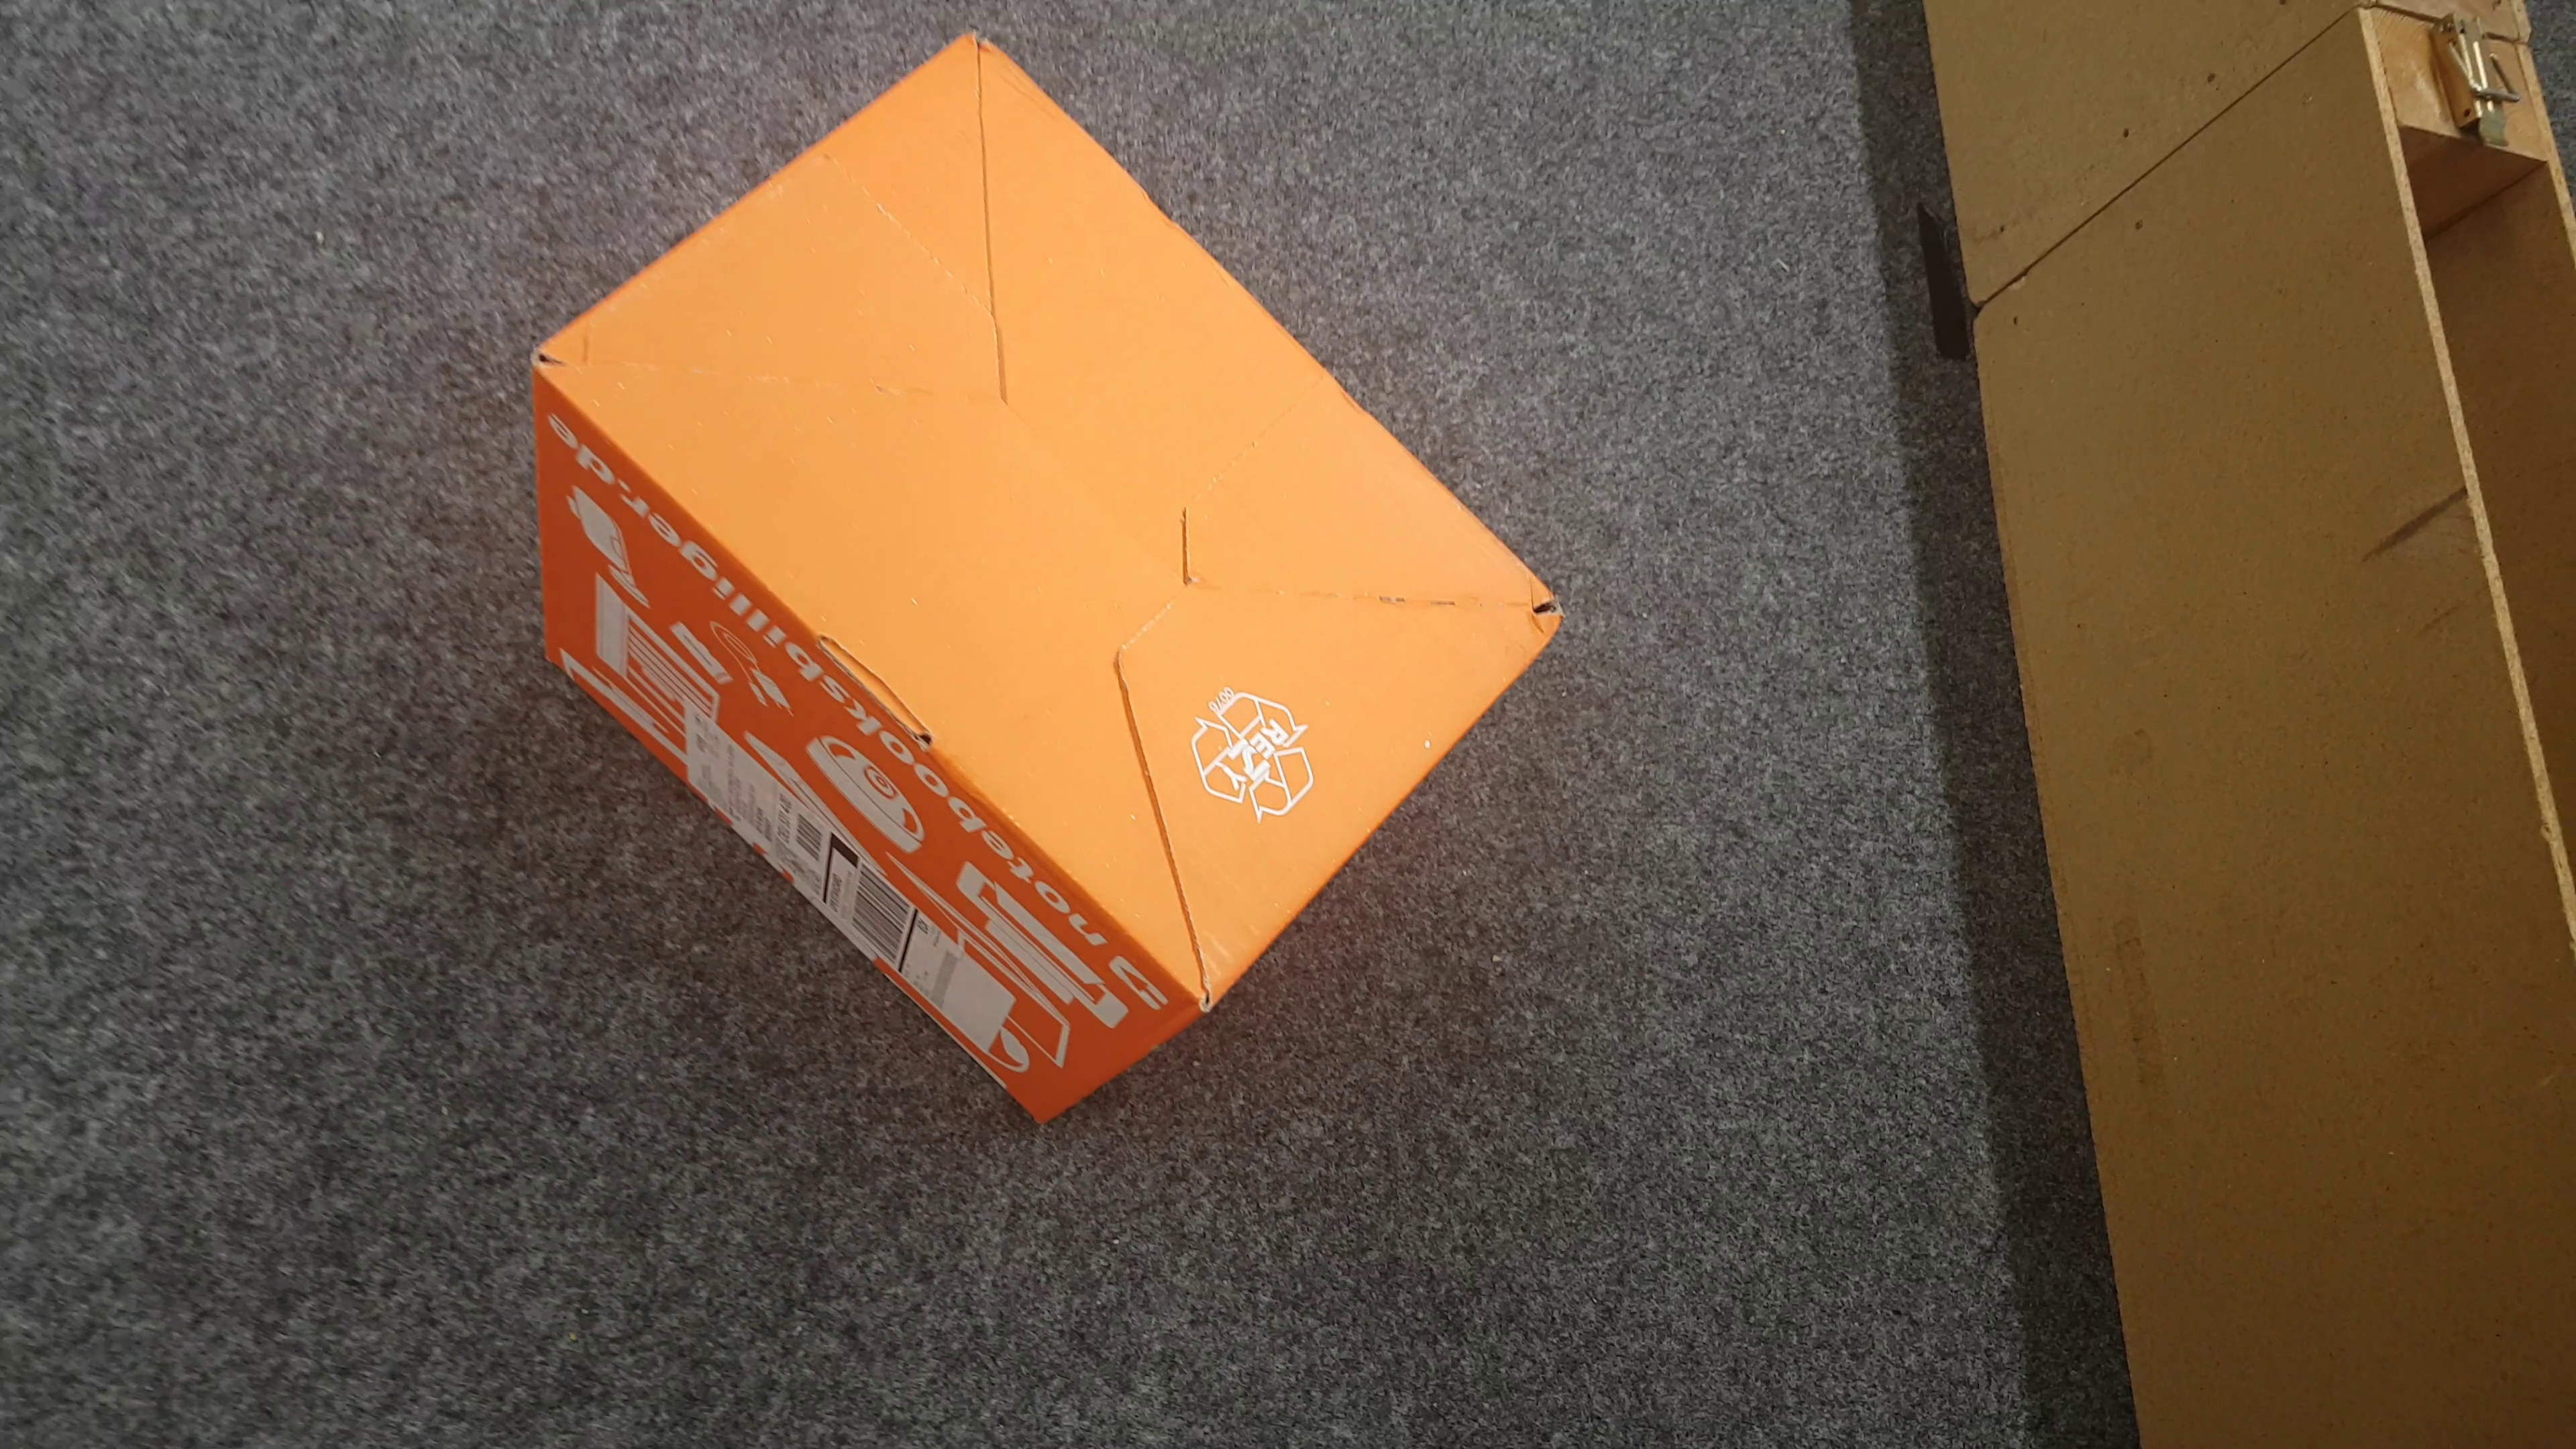push: (534, 34, 1575, 1127)
